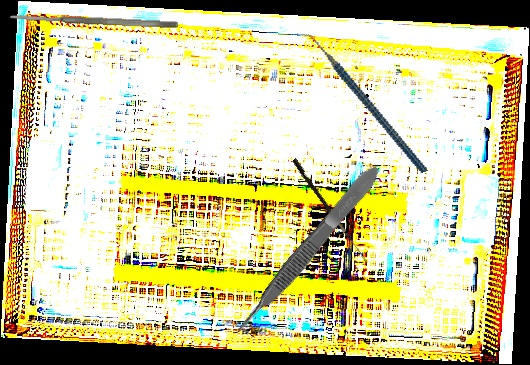Chopper: (295, 7, 428, 198)
Hook Surgical: (290, 158, 372, 263)
Spatula Surgical: (8, 11, 179, 30)
Tissue Forceps: (229, 162, 386, 337)
